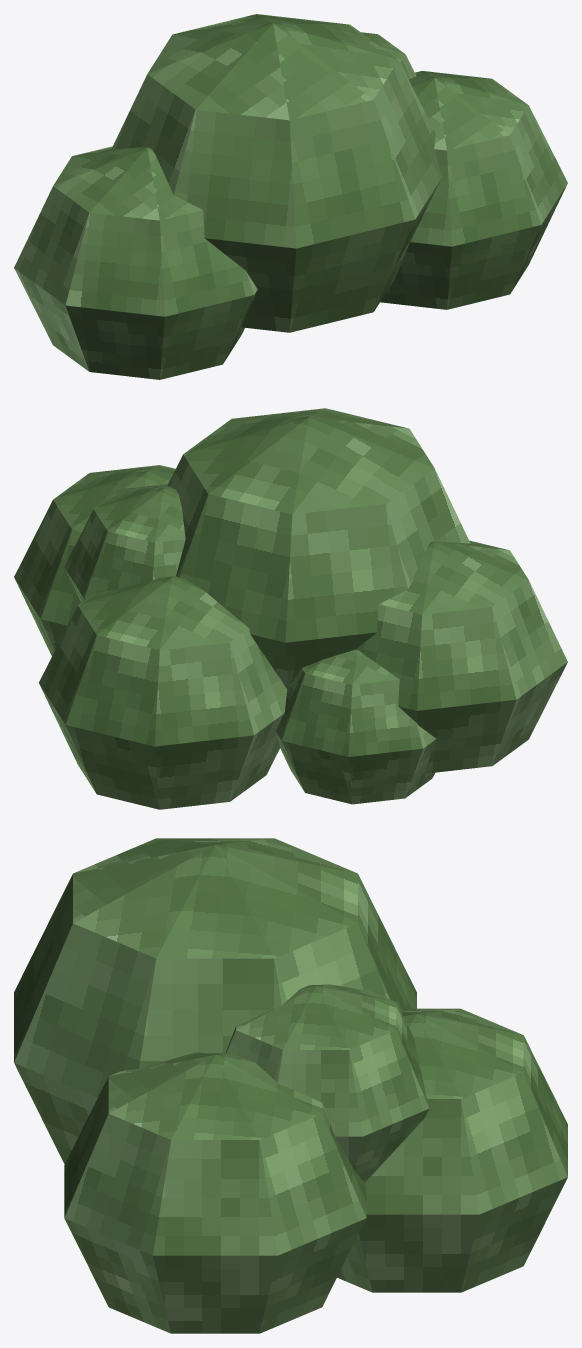
File: bush.fbx
3 renders of one model, top to bottom at view 1: azimuth 30°, elevation 25°; view 2: azimuth 150°, elevation 25°; view 3: azimuth 270°, elevation 25°, orthographic. The views are drawn at different scales.
Visible parts, largest first — view 1: sphere, sphere_1, sphere_2, sphere_5; view 2: sphere, sphere_3, sphere_1, sphere_4, sphere_5, sphere_2; view 3: sphere, sphere_2, sphere_3, sphere_5.
Part boxes in pixels (box(x1,y1,x2,y2)): sphere: box(111, 14, 441, 332); sphere_1: box(14, 146, 257, 379); sphere_2: box(380, 71, 567, 309); sphere_5: box(361, 32, 416, 79); sphere: box(167, 408, 470, 688); sphere_3: box(39, 576, 287, 809); sphere_1: box(356, 540, 567, 773); sphere_4: box(275, 649, 436, 804); sphere_5: box(64, 483, 185, 602); sphere_2: box(14, 465, 175, 655); sphere: box(14, 838, 416, 1164); sphere_2: box(64, 1052, 366, 1333); sphere_3: box(337, 1008, 567, 1292); sphere_5: box(226, 984, 429, 1182).
Bounding box in the file's own units: 175 × 112 × 138.
Materials: 1 (1 with a texture image).
